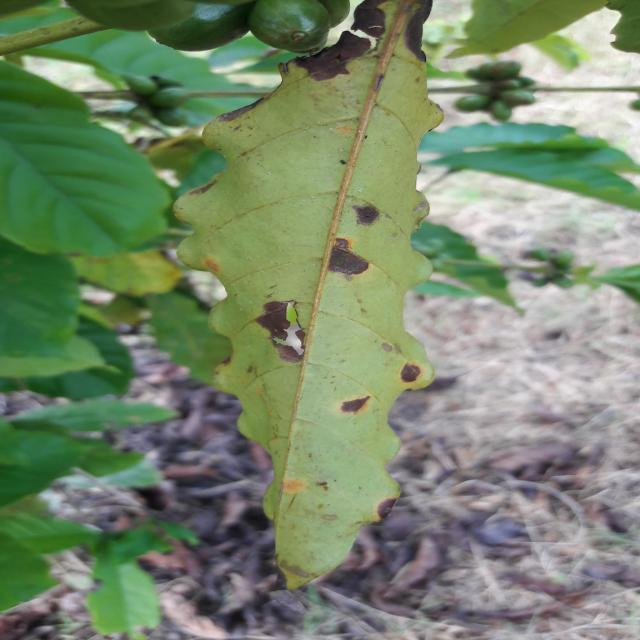Enfermedad-Roya: (174, 0, 439, 585)
